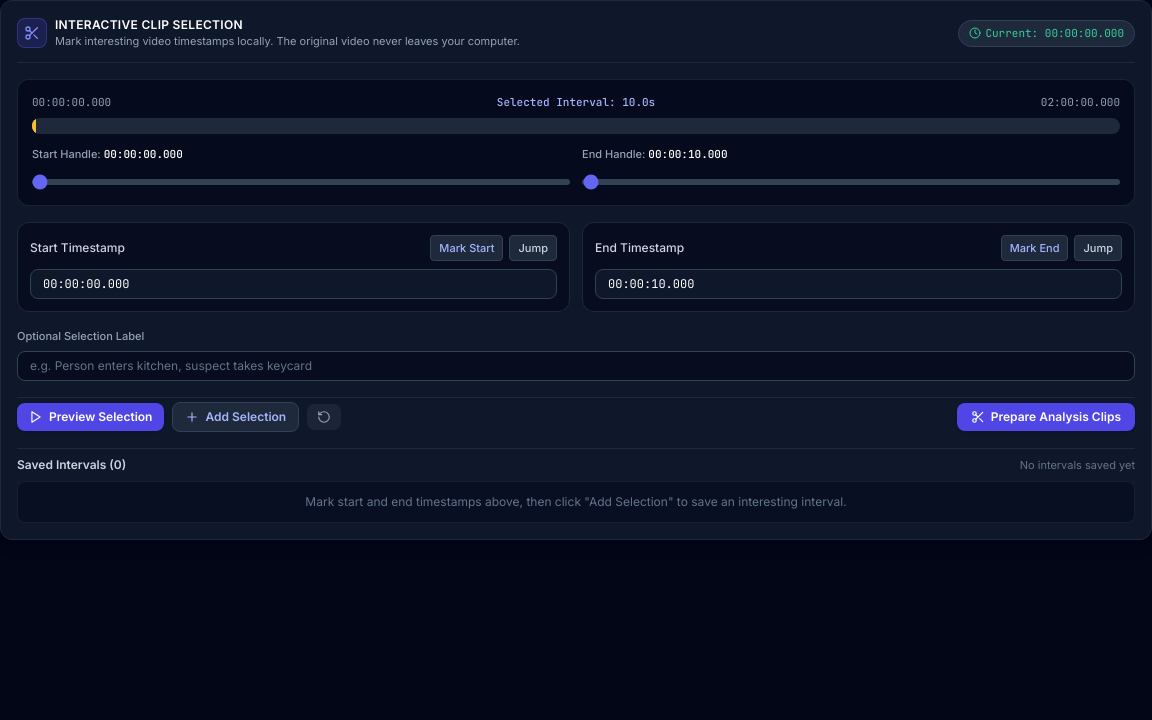
Test: Task 2: Interactive Video Timestamp Selection & Preview Tests › 2. Manual timestamp input synchronizes with calculated duration
Type "00:01:20.000" into the field with test id "start-timestamp-input" at (294, 284), box top-left (30, 269), bottom-right (557, 299)
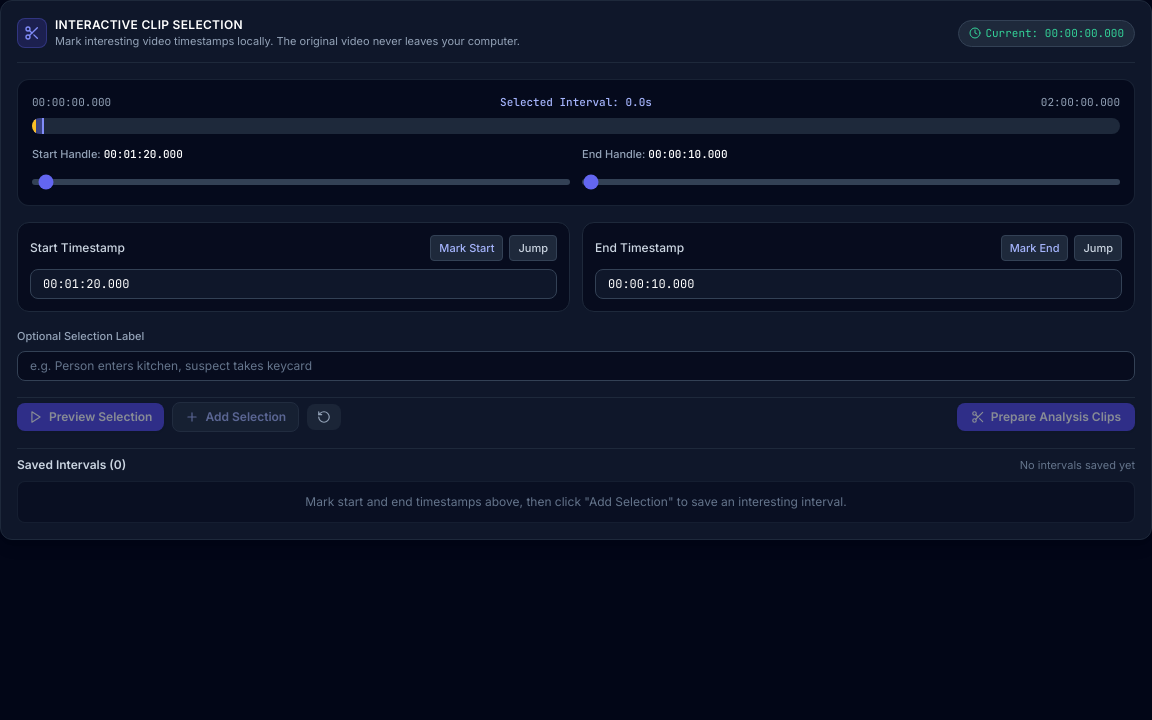
Type "00:01:50.000" into the field with test id "end-timestamp-input" at (858, 284), box top-left (595, 269), bottom-right (1122, 299)
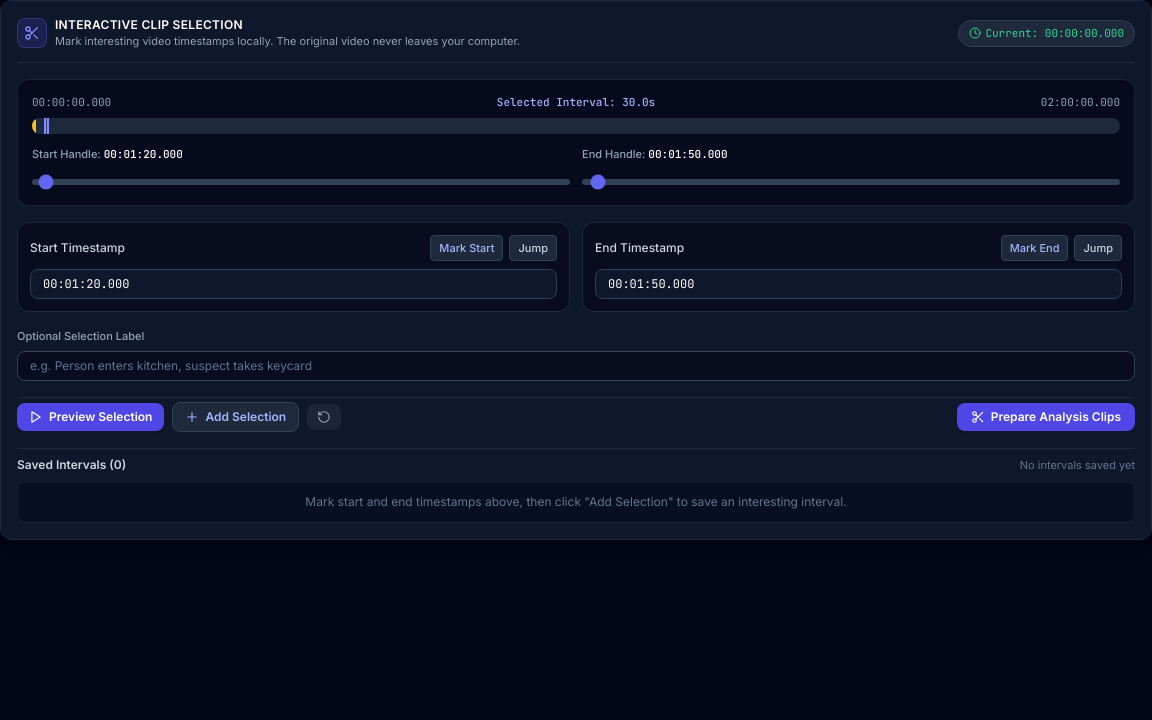
Result: the text "Selected Interval: 30.0s" is shown at top-left (497, 94), bottom-right (655, 110)
